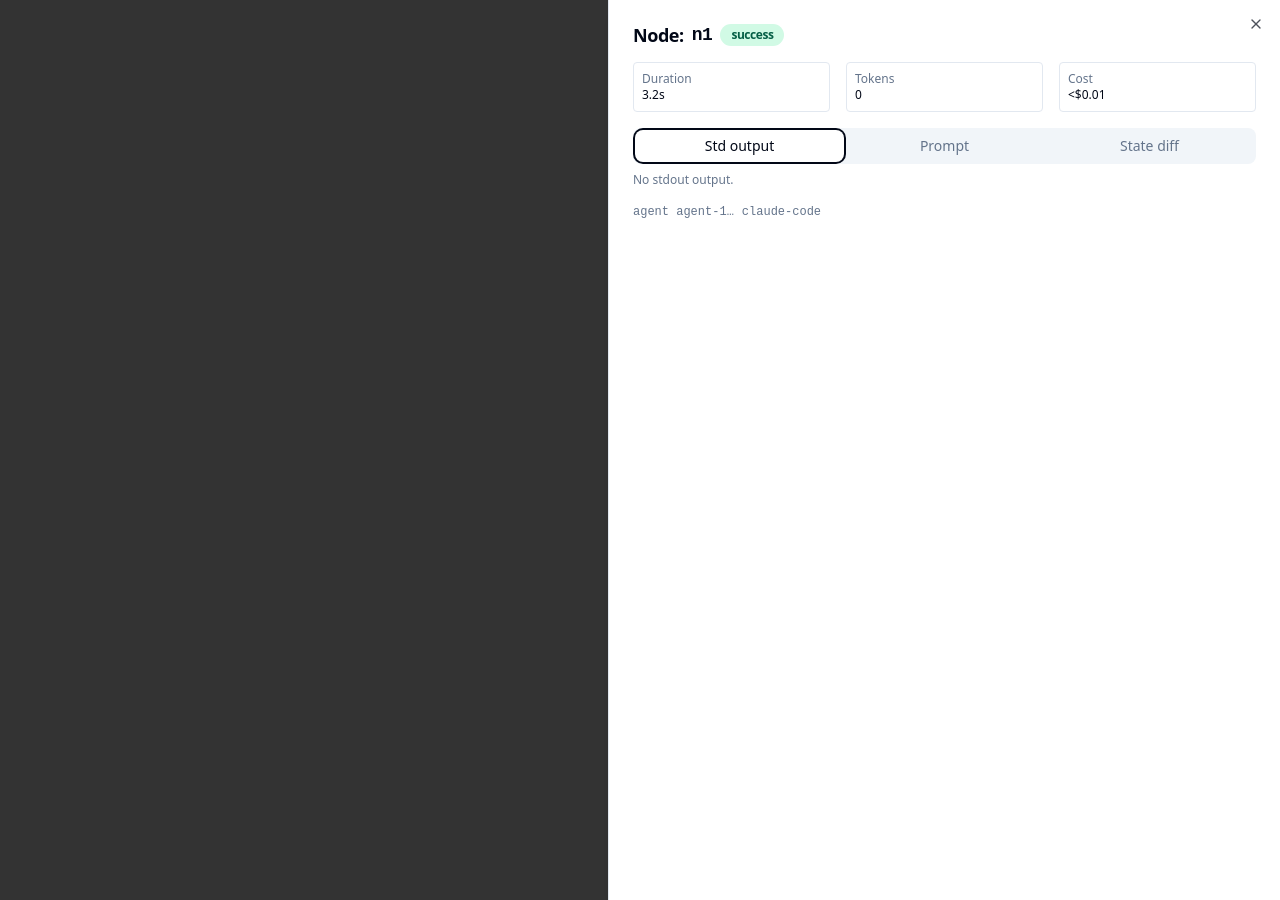
it: NodeDetailPanel — Prompt tab › shows the Prompt tab with the rendered prompt for LLM nodes
The image size is (1280, 900).
Click the tab "Prompt".
click(944, 146)  # box [842,132,1047,160]
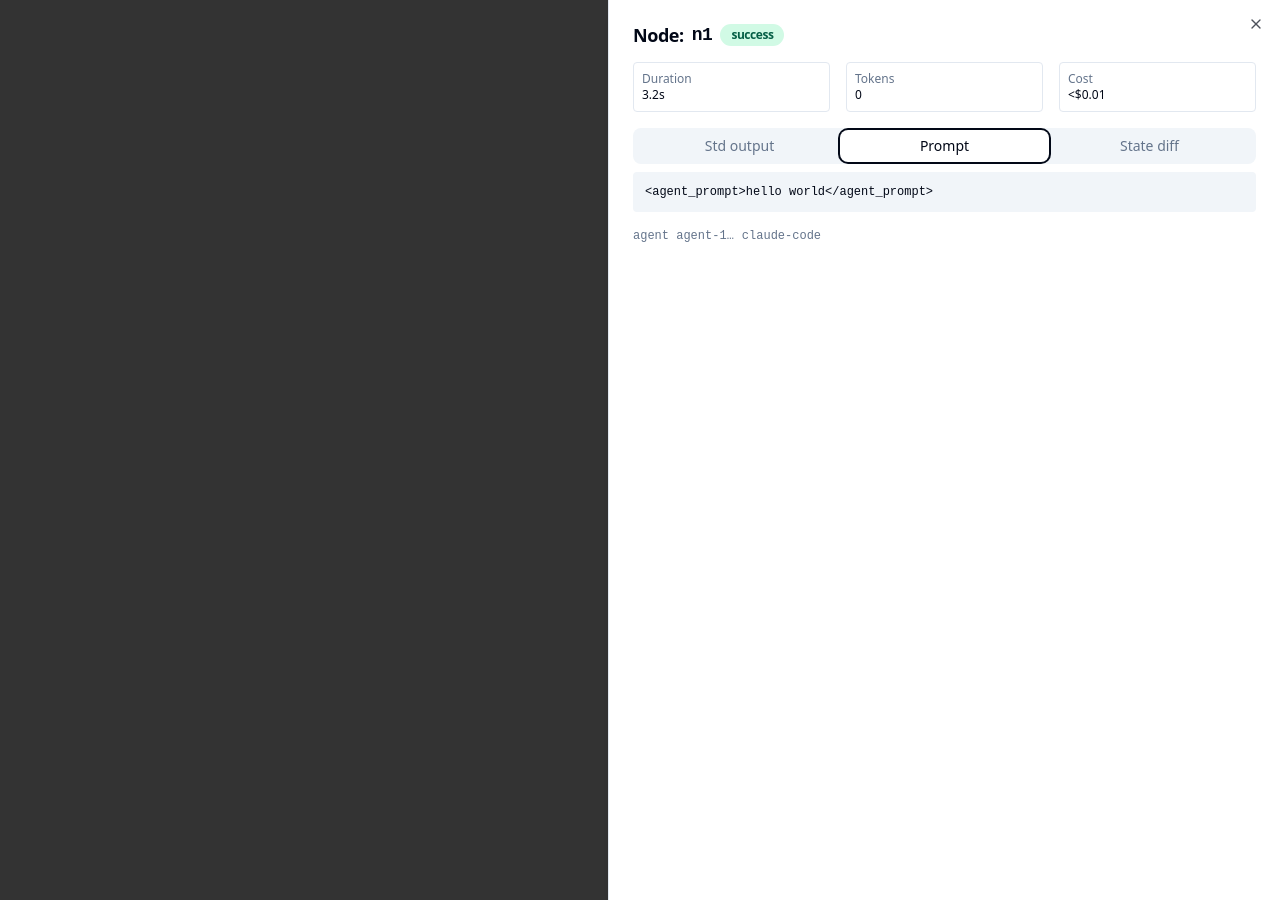
expect the text "<agent_prompt>hello world</agent_prompt>" is shown: met, box [633,172,1256,212]
